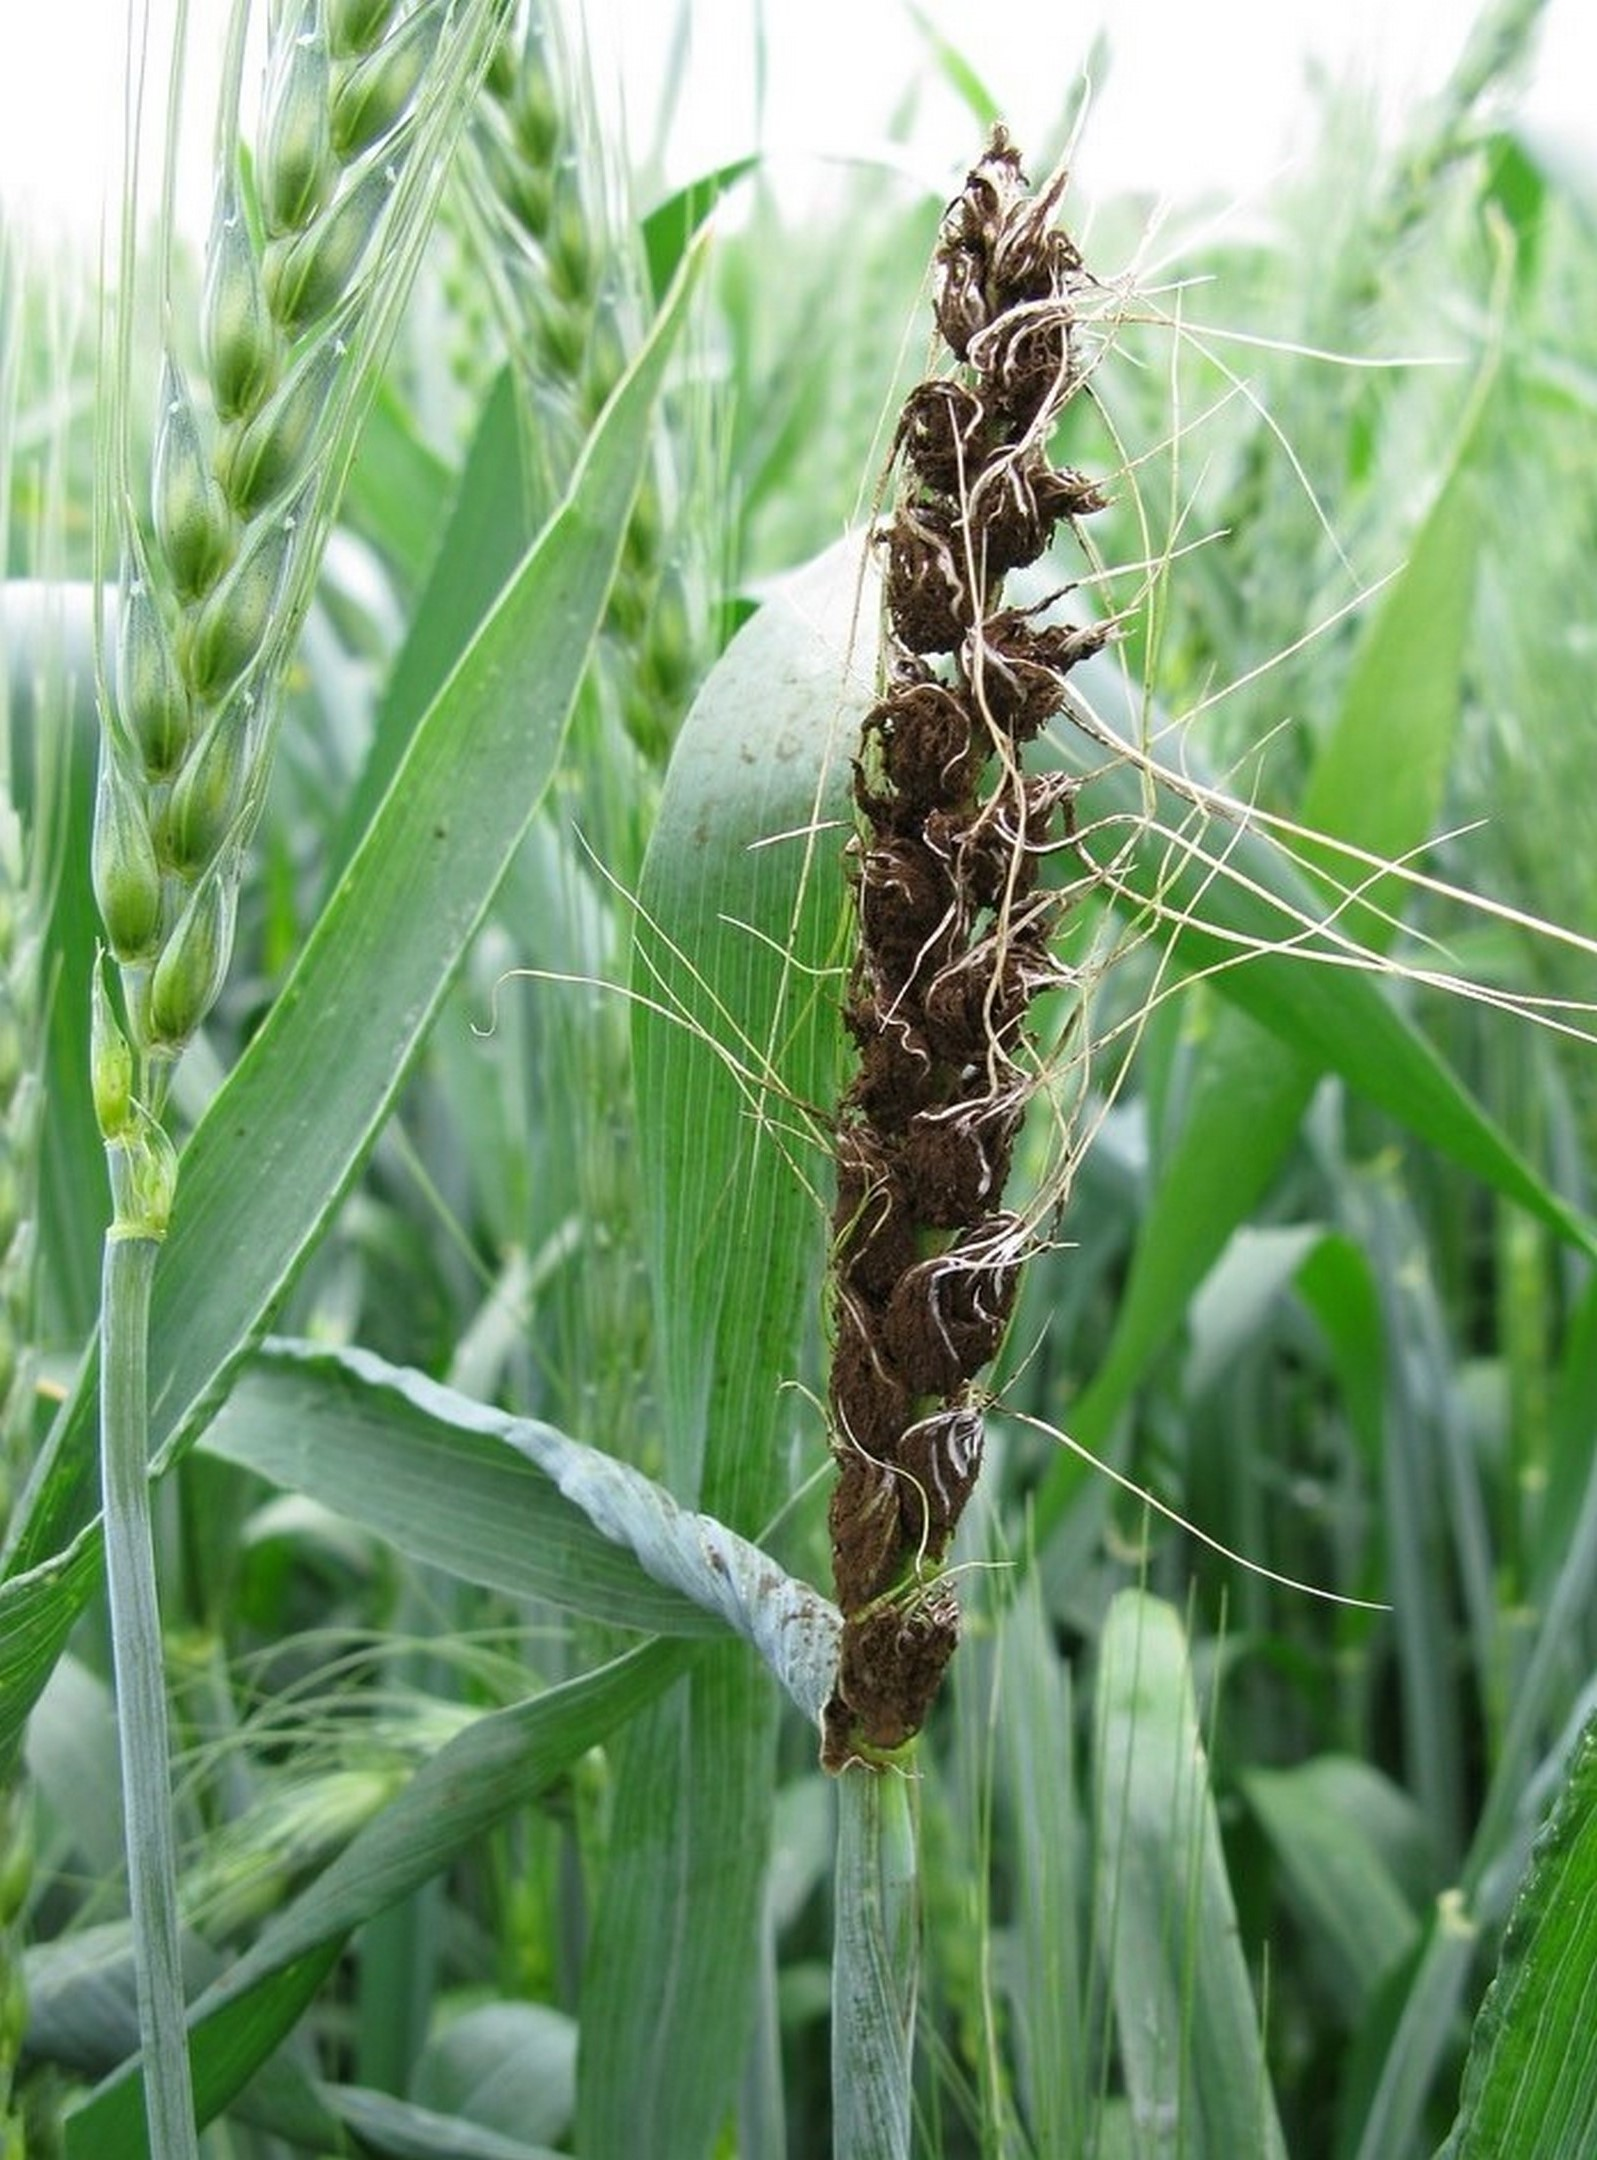Wheat Loose Smut: (798, 144, 1134, 1746)
